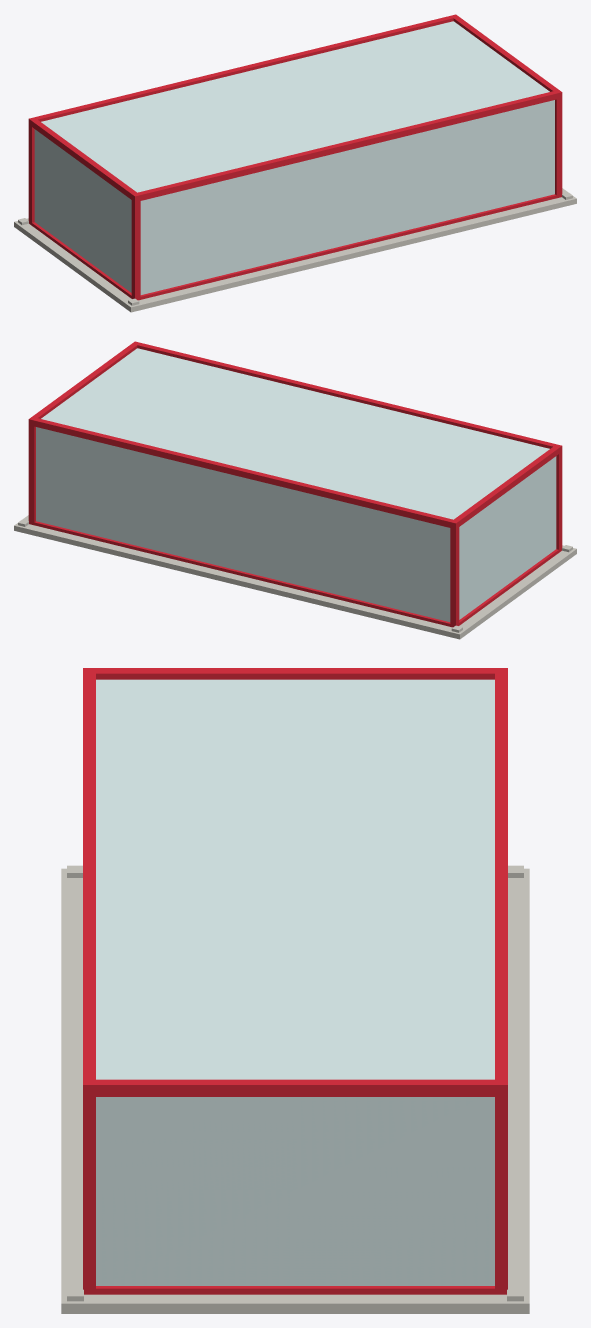
Rendered from ferrari-499p.glb.
3 renders of one model, top to bottom at view 1: azimuth 30°, elevation 25°; view 2: azimuth 150°, elevation 25°; view 3: azimuth 270°, elevation 25°, orthographic. The views are drawn at different scales.
Size of the model in its own units: 0.55 by 0.1295 by 0.25.
